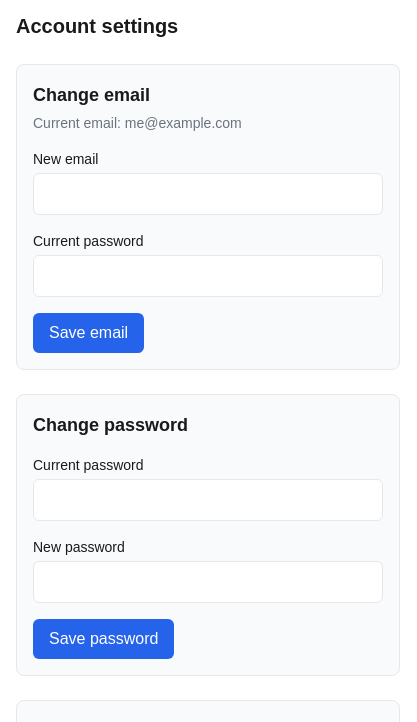
SettingsPage › submits a password change
Type "oldpass1" into the password field with id "current-password".
click(208, 500); type("oldpass1")  # box [33,479,383,521]
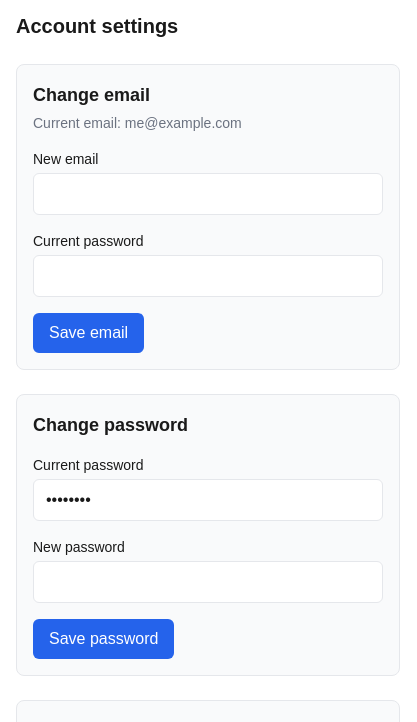
Type "newpass1" into the password field labelled "New password".
click(208, 582); type("newpass1")  # box [33,561,383,603]
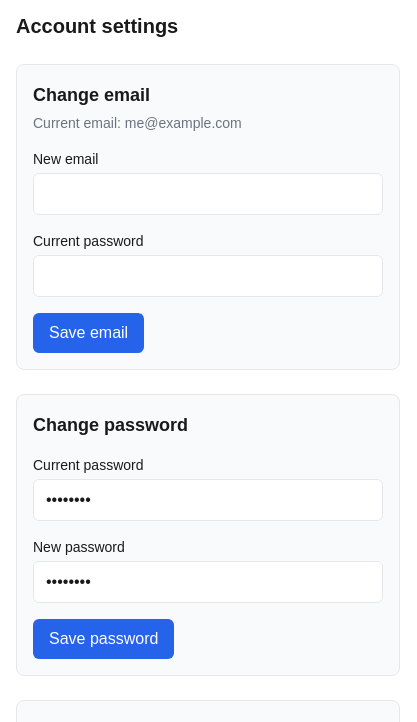
Click the button "Save password".
click(104, 639)  # box [33,619,174,659]
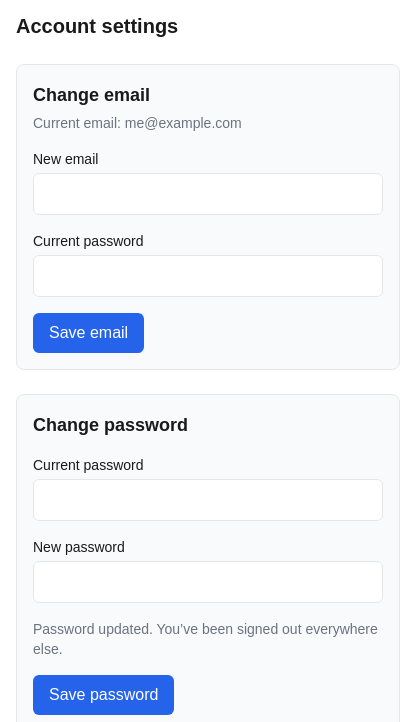
Check: the text "Password updated. You’ve been signed out everywhere else." is shown, box [33,619,383,659]
